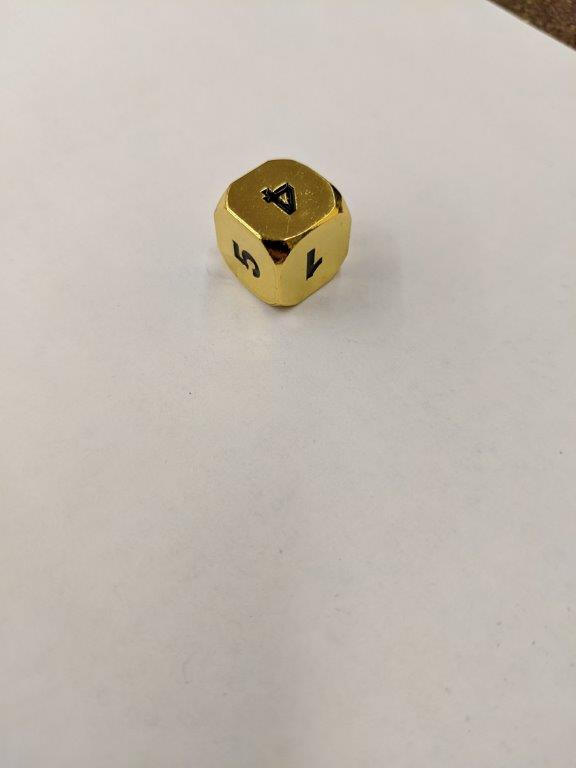d6-4: (215, 158, 356, 309)
